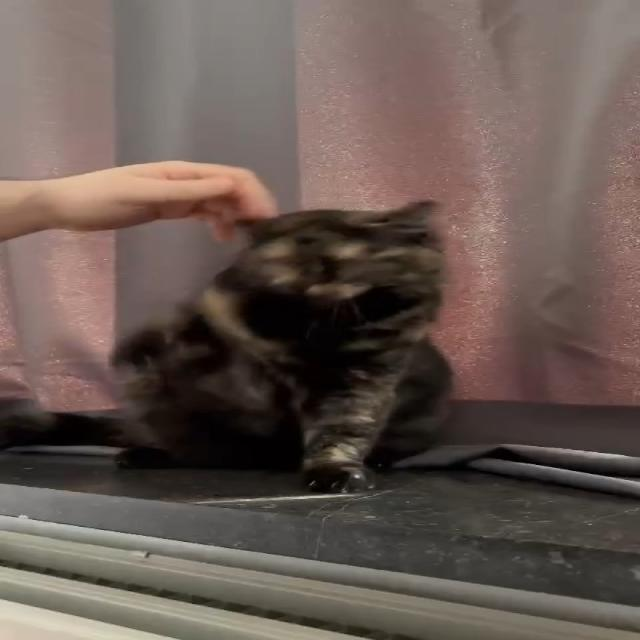authorized: (1, 198, 455, 494)
